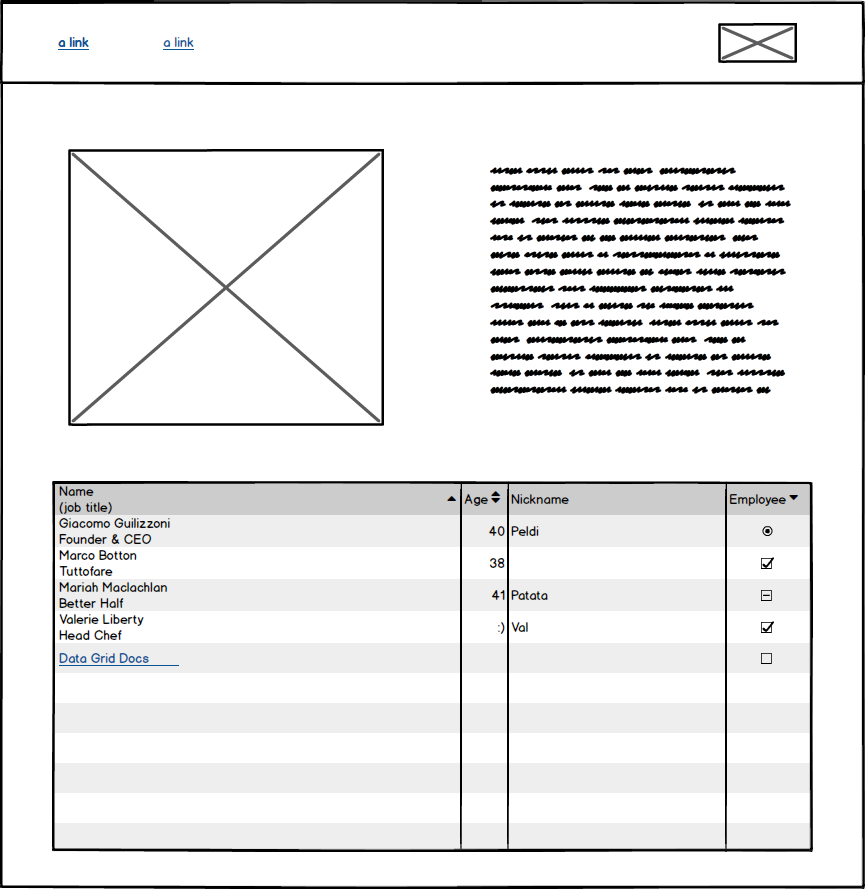image: (63, 144, 391, 429), (713, 17, 802, 69)
navlink: (45, 27, 102, 58), (157, 29, 203, 61)
p: (484, 159, 795, 401)
table: (47, 478, 820, 858)
